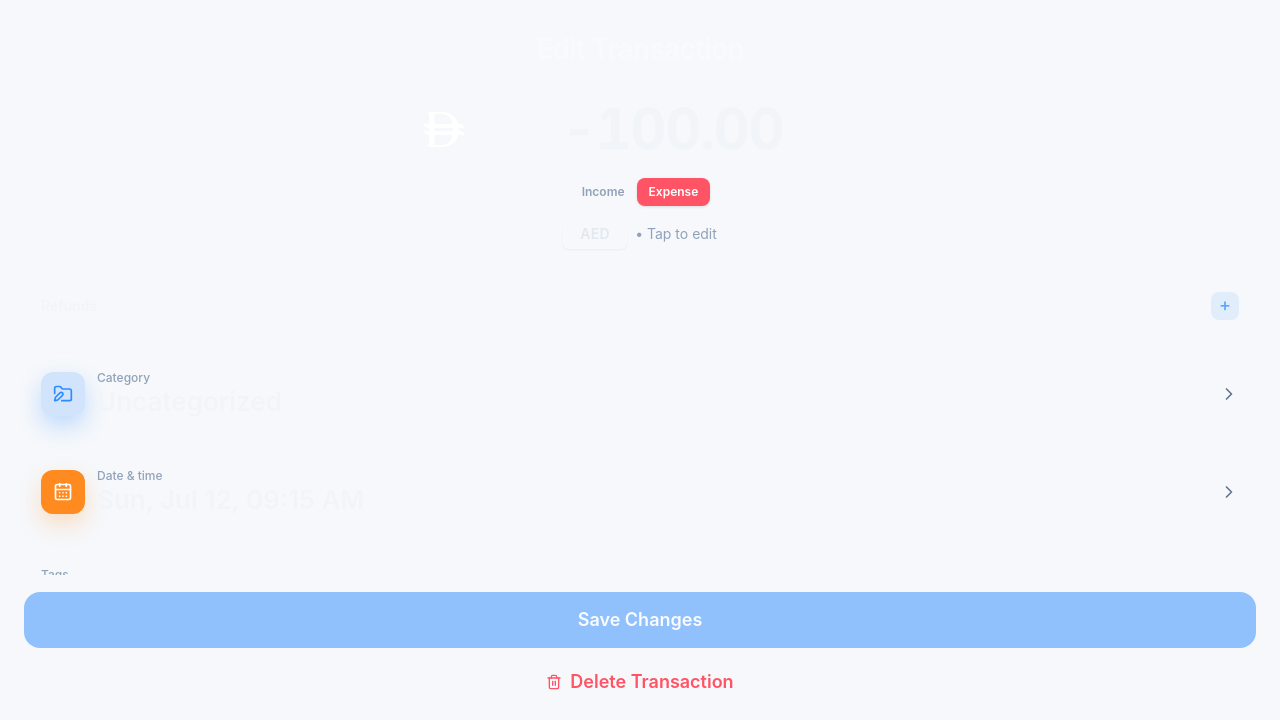
Scenario: TransactionEditDialog › allows a full refund to save at zero while keeping it an expense
The image size is (1280, 720).
Click the button with test id "tx-edit-add-refund". click: (1225, 306)
box: [1211, 292, 1239, 320]
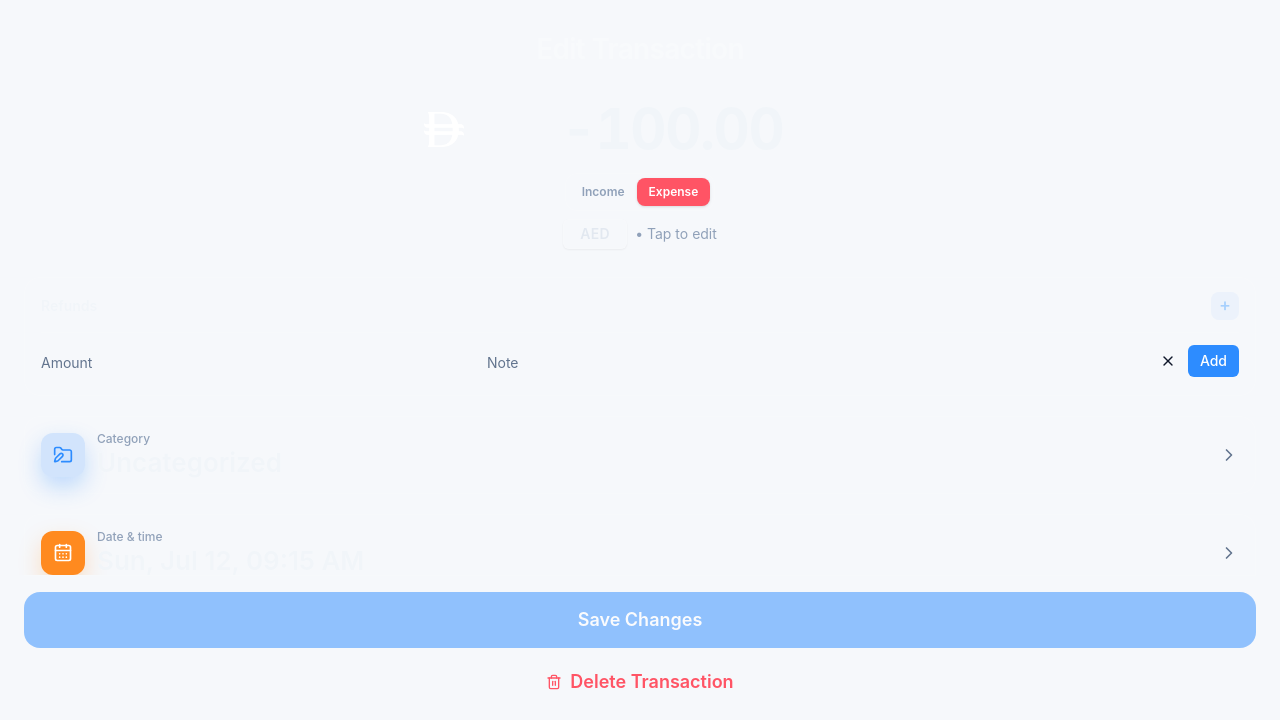
Type "100" into the field named "Refund amount". click: (260, 363)
box: [41, 345, 479, 381]
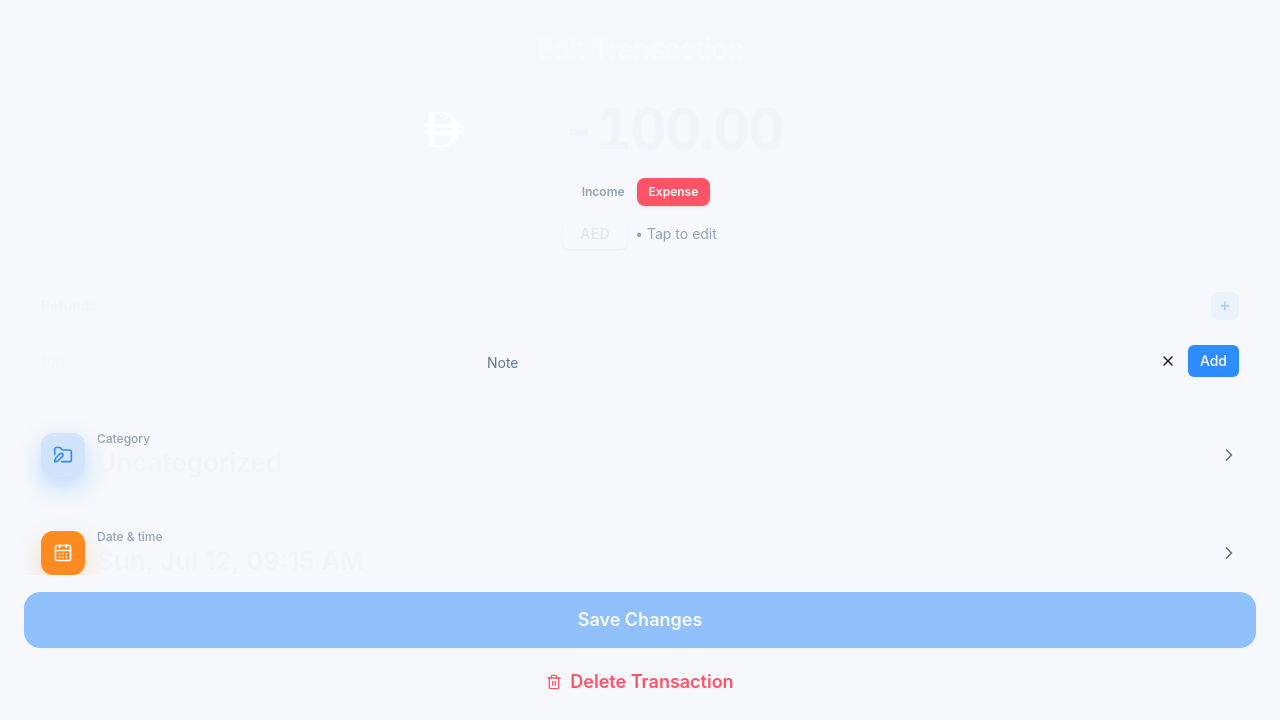
Click the button with aria-label "Confirm refund". click: (1213, 361)
box: [1188, 345, 1239, 377]
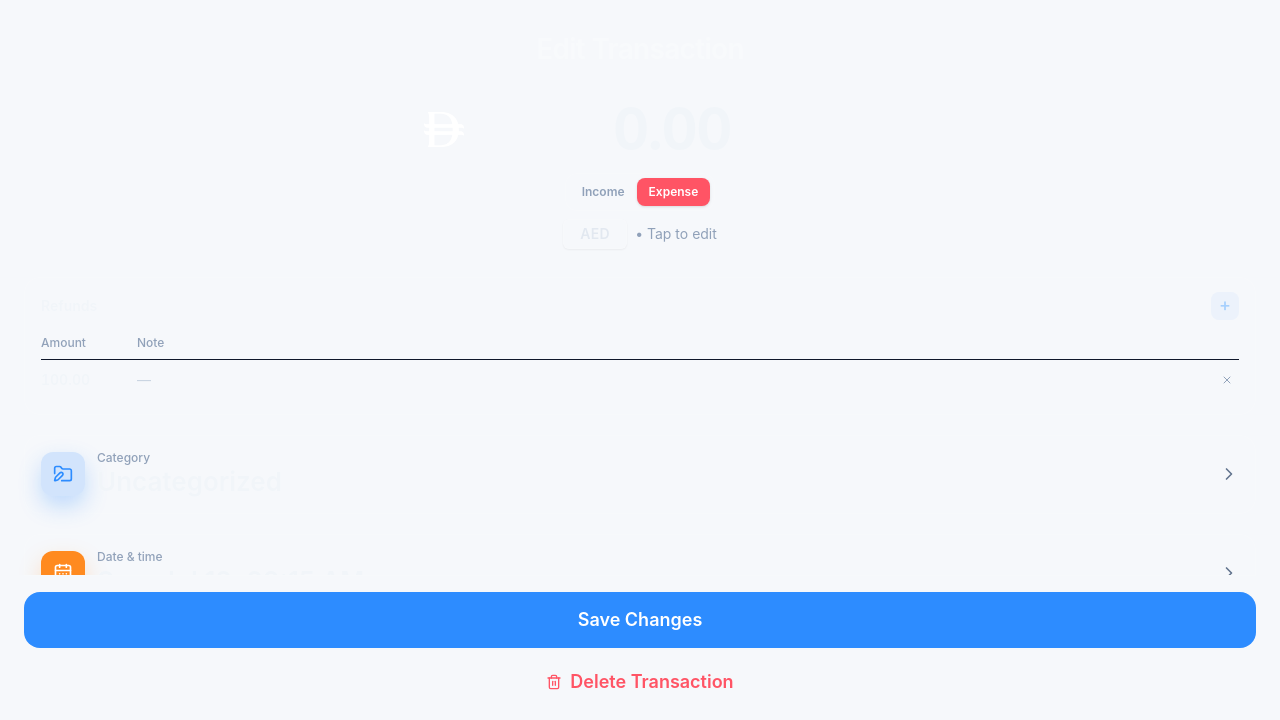
Expected: the field named "Transaction amount" holds "0.00", [480, 98, 864, 161]
Expected: the button with test id "tx-edit-save" is enabled, [24, 592, 1256, 648]
